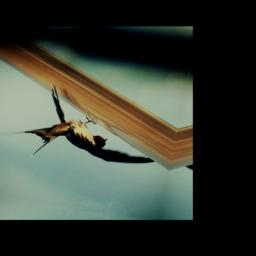Swallow: (0, 78, 169, 175)
